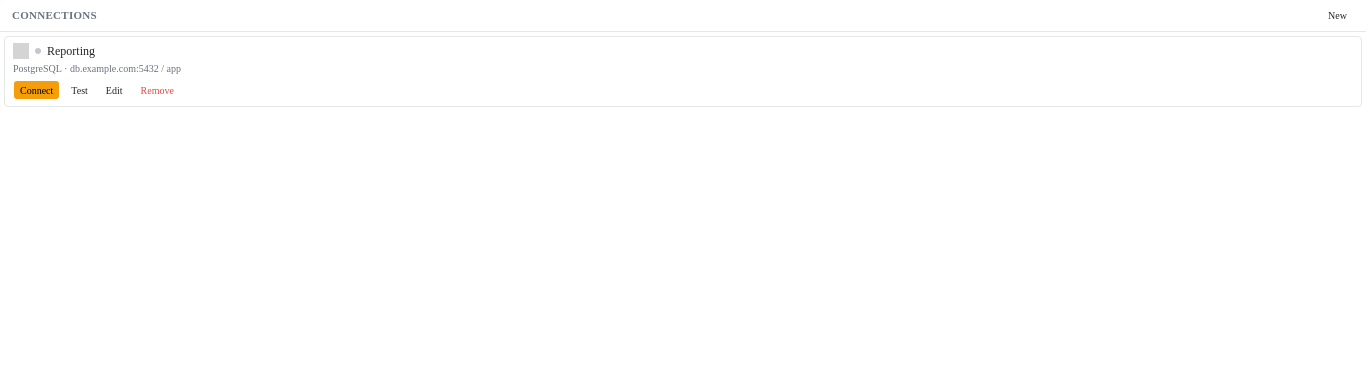
Test case: ConnectionManager › edits a profile without prefilling the saved password
Check: the text "Reporting" is shown, box [47, 44, 95, 58]
Click the button with aria-label "Edit Reporting" at (114, 90), box [99, 80, 130, 100]
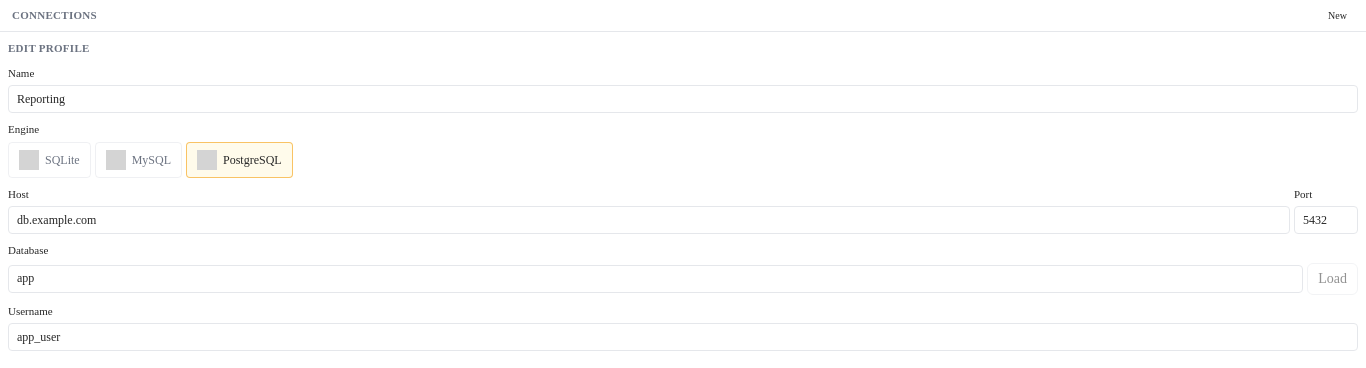
Check: the field labelled "Host" holds "db.example.com", box [8, 206, 1290, 234]
